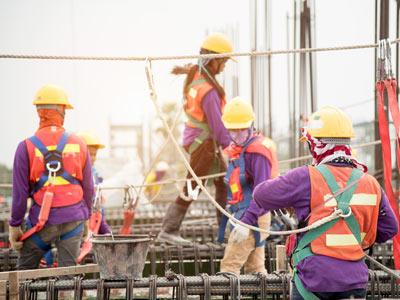helmet: (298, 107, 356, 145), (222, 97, 257, 132), (200, 33, 239, 64), (33, 85, 75, 111), (77, 132, 106, 151)
